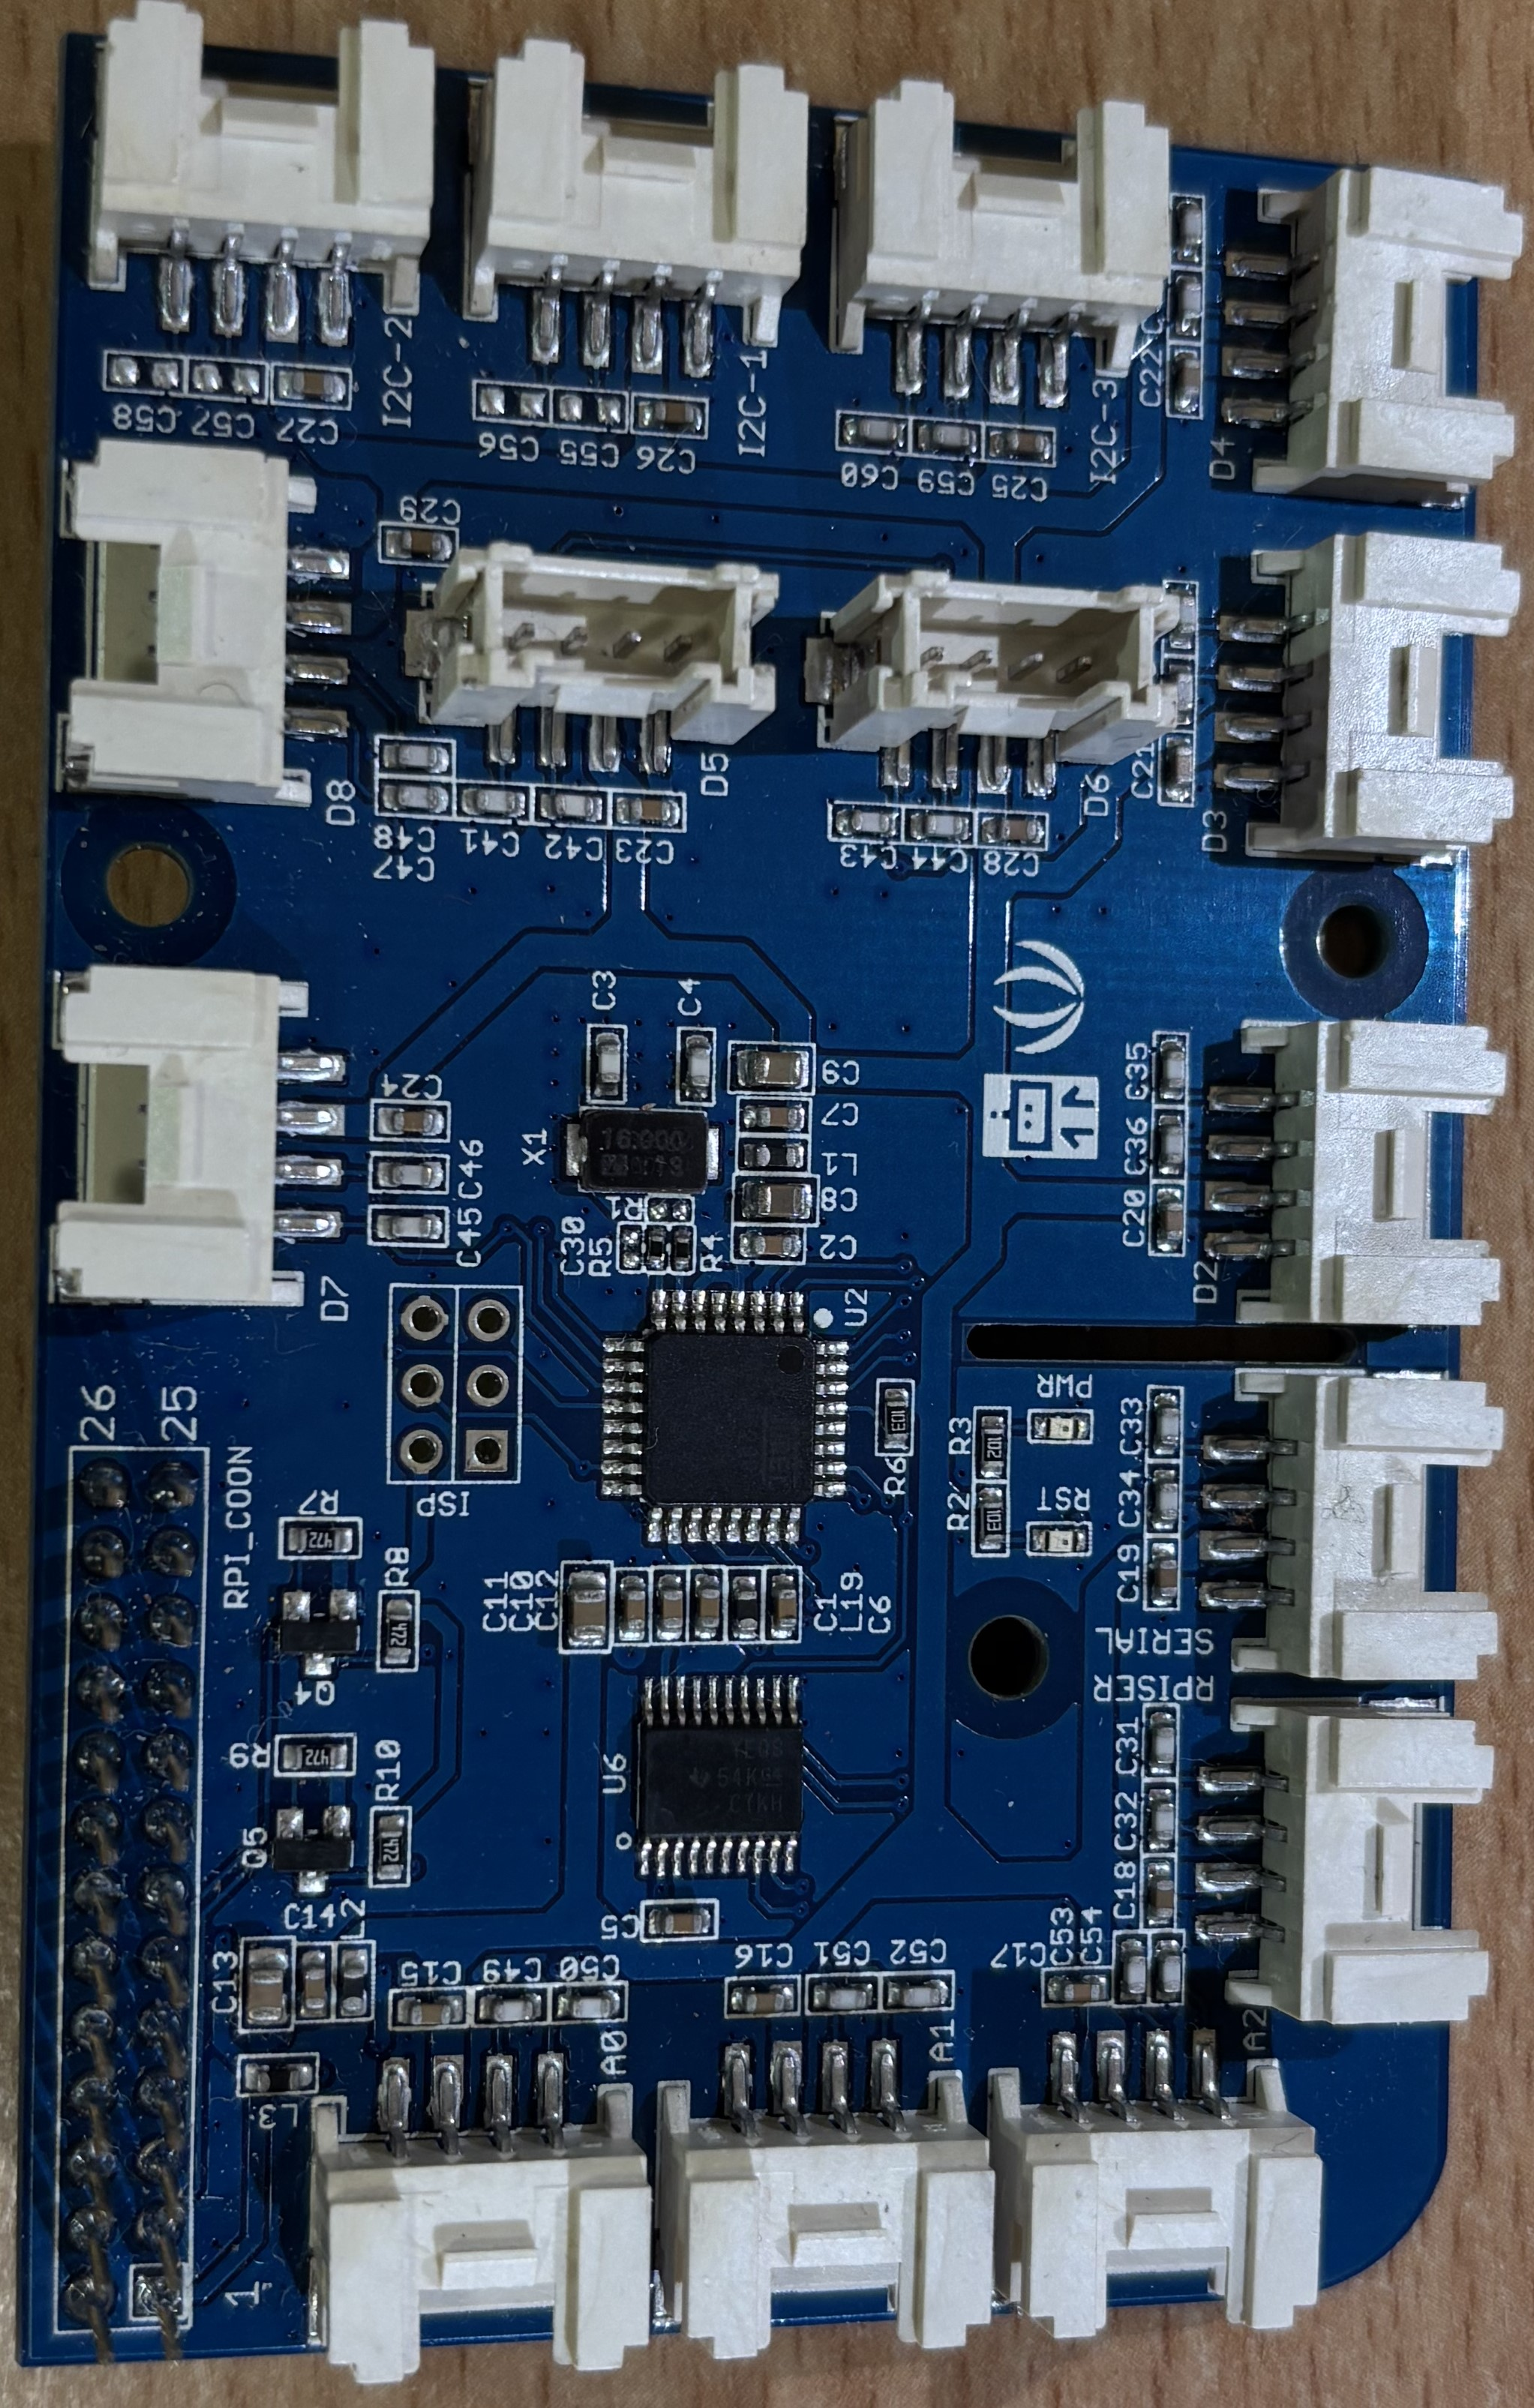Induktor: (246, 2057, 316, 2097), (335, 1946, 367, 2022), (742, 1139, 806, 1169), (732, 1578, 760, 1634)
